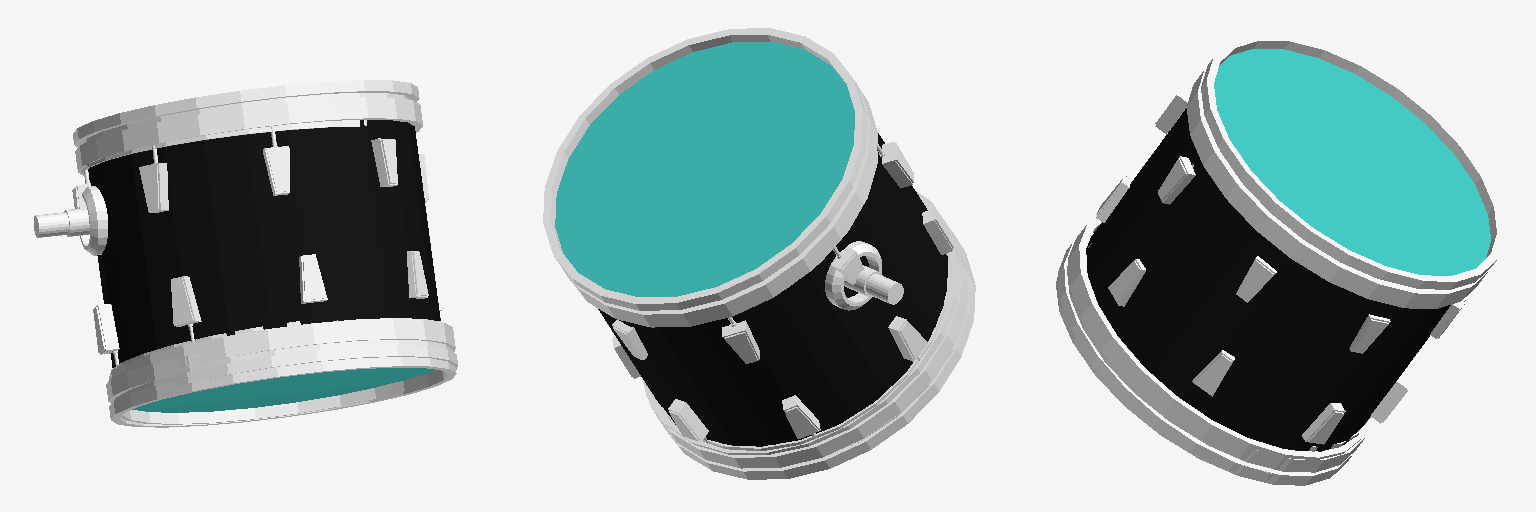
Rendered from Tom3.obj.
The picture shows the model from 3 angles: view 1: azimuth 30°, elevation 25°; view 2: azimuth 150°, elevation 25°; view 3: azimuth 270°, elevation 25°; orthographic projection.
Parts seen in each view (by area): view 1: ComponentFBXASC0359_005; view 2: ComponentFBXASC0359_005; view 3: ComponentFBXASC0359_005.
Boxes of the visible parts, x1,y1,x2,y2 form: ComponentFBXASC0359_005: [34, 80, 457, 427]; ComponentFBXASC0359_005: [543, 28, 975, 479]; ComponentFBXASC0359_005: [1056, 35, 1503, 485].
Size of the model in its own units: 227 by 242 by 251.